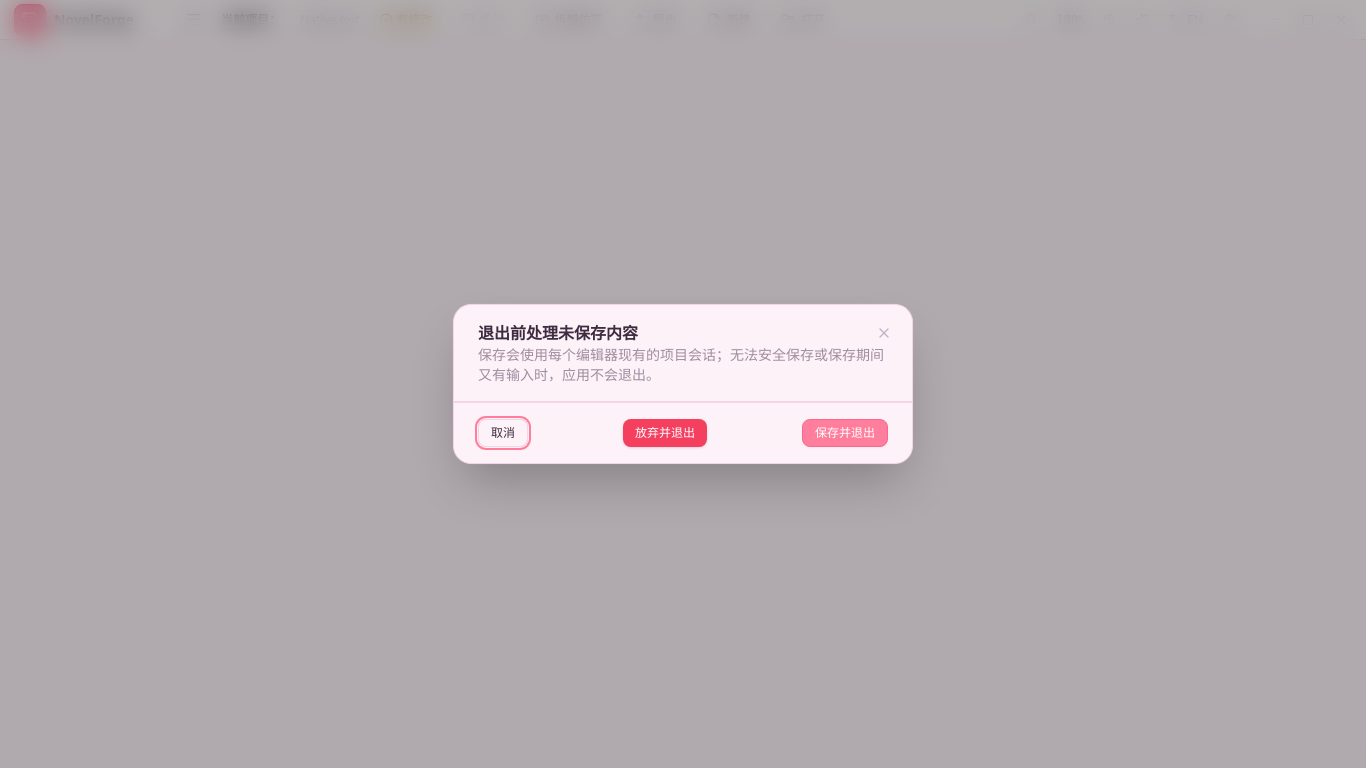
Test: TitleBar native exit settlement › keeps unsaved changes when discard-and-exit hits a transport rejection
The width and height of the screenshot is (1366, 768).
Click the button "放弃并退出" at (665, 433), box x1=623 y1=419 x2=707 y2=447
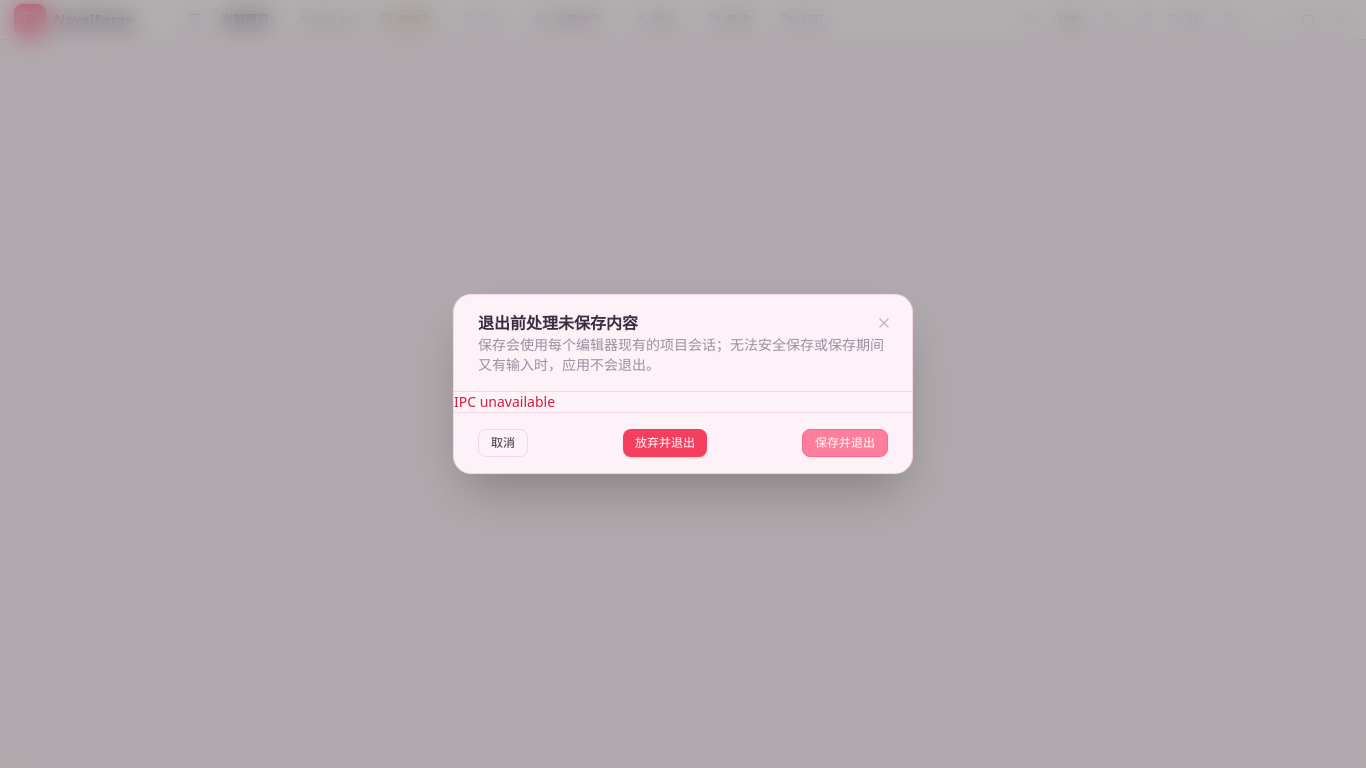
expect the text "IPC unavailable" is shown: met, box x1=454 y1=392 x2=555 y2=411
